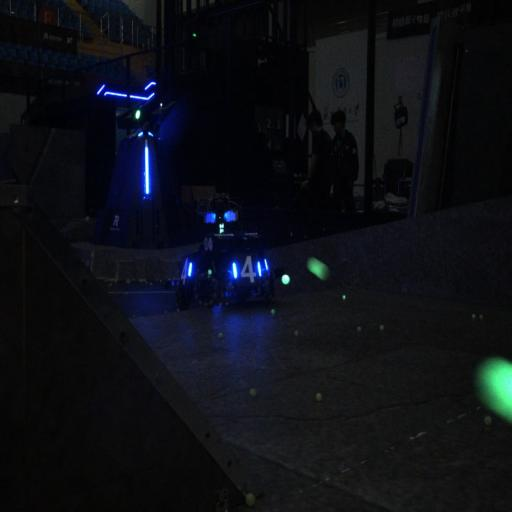target: (230, 252, 264, 290), (176, 255, 196, 288)
